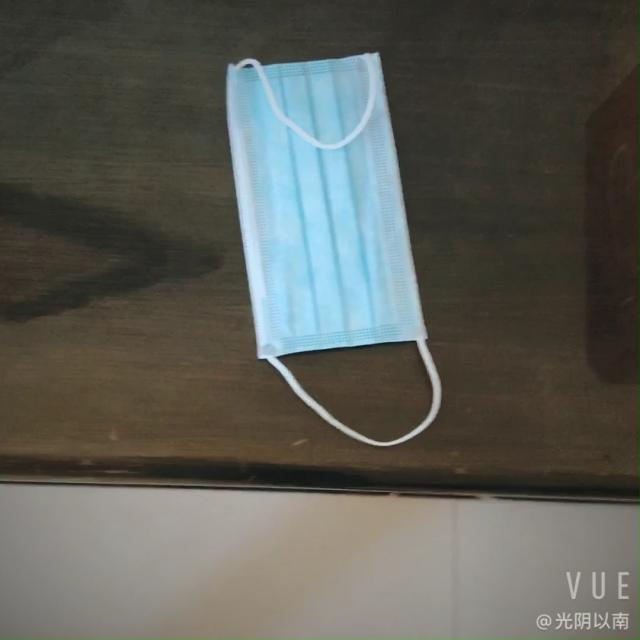face mask: (220, 42, 443, 374)
